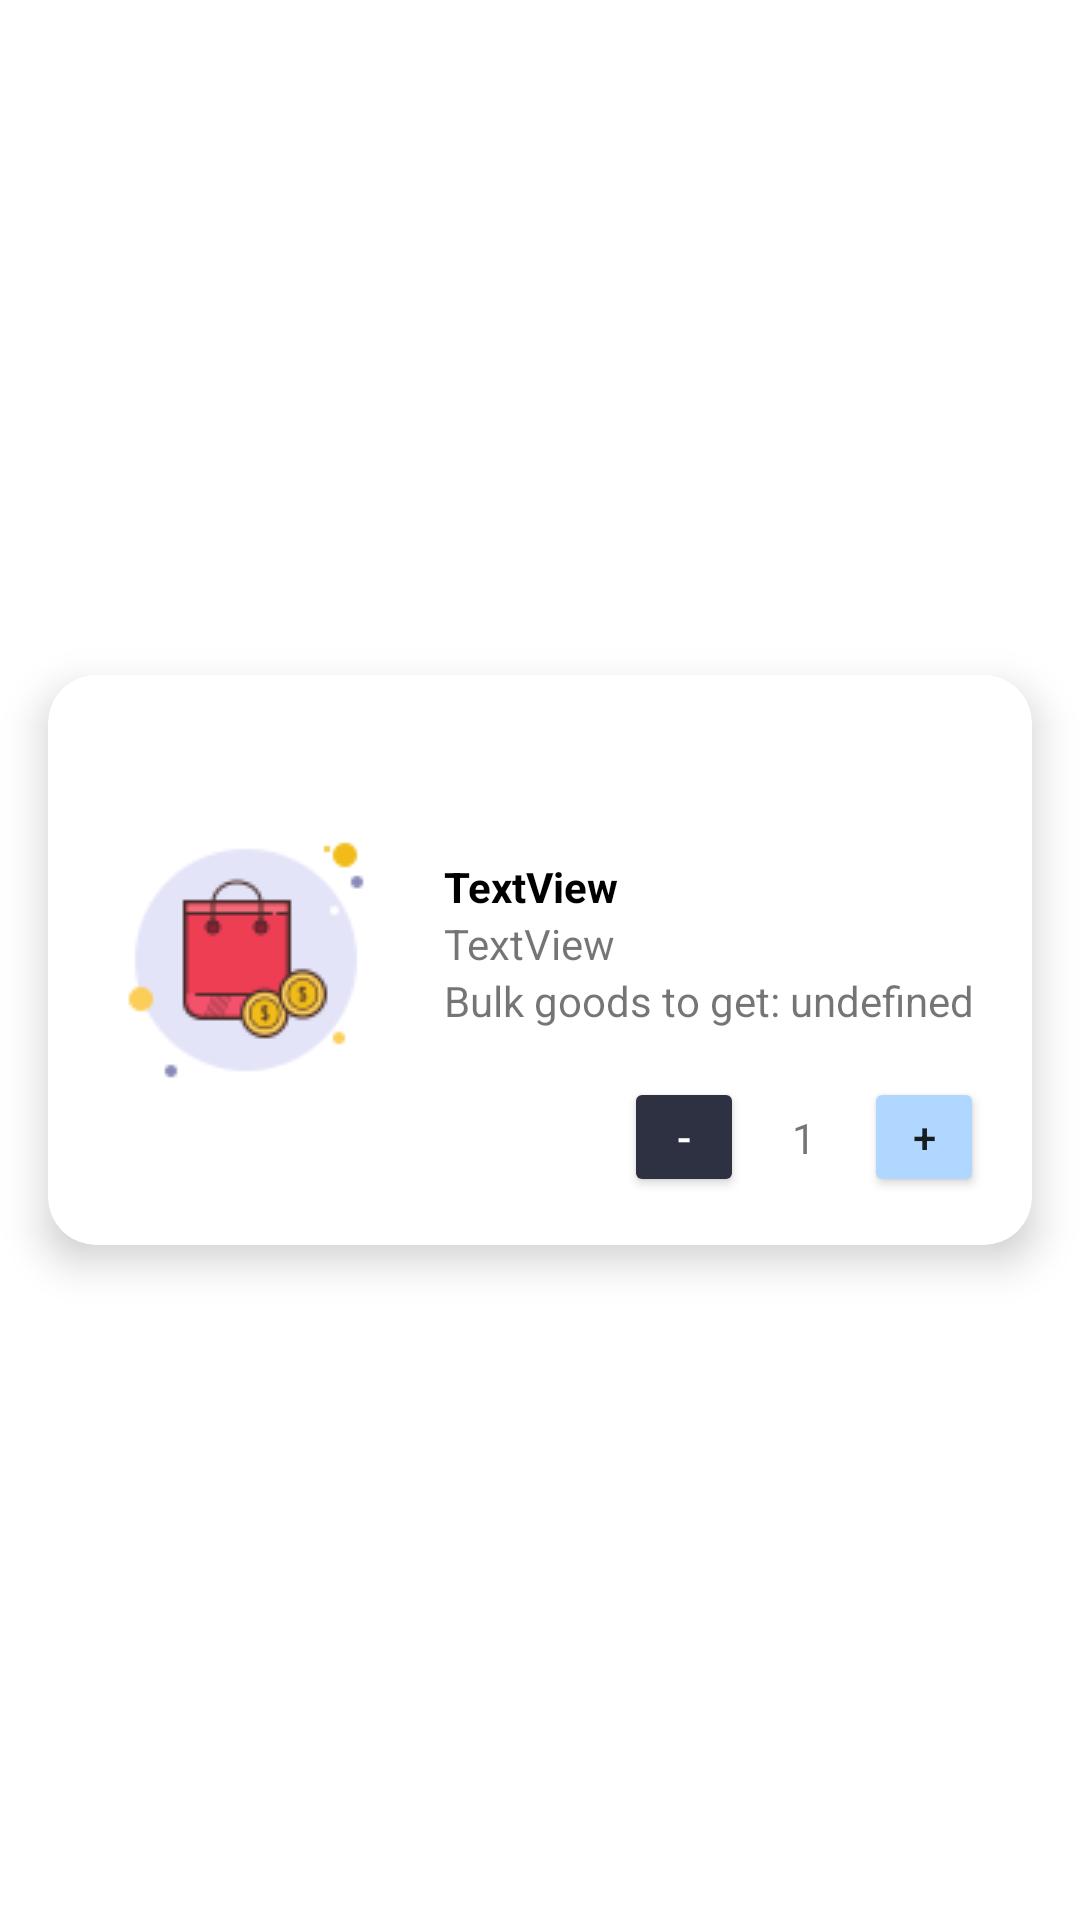

Named icons in this screenshot (1080 x 1920) and their centers, point (x, y):
bag: point (246, 960)
